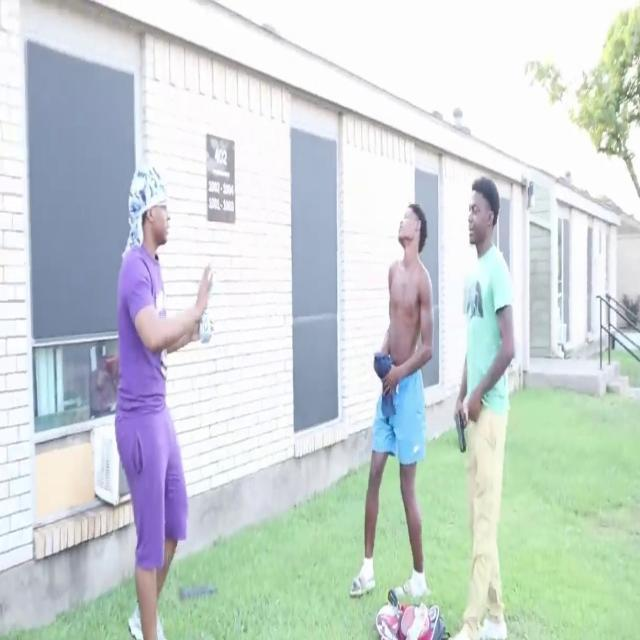Handgun: (448, 398, 471, 456)
